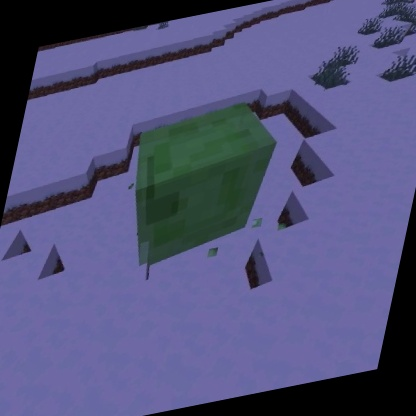slime: (106, 89, 292, 277)
